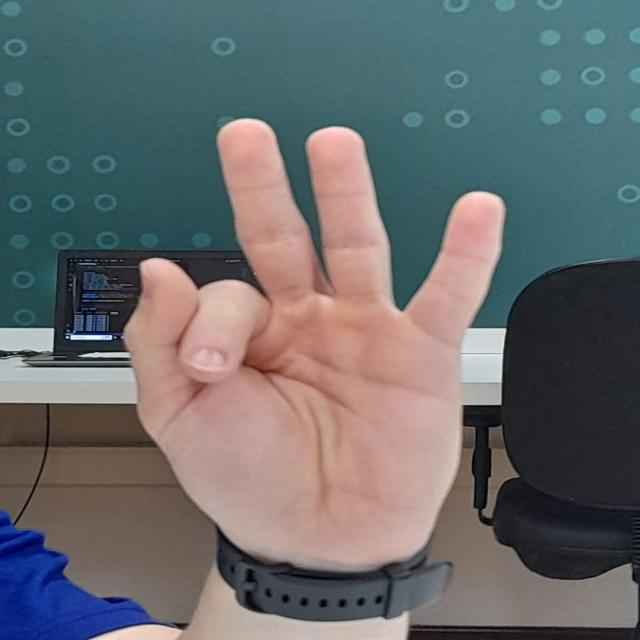F: (95, 115, 525, 562)
